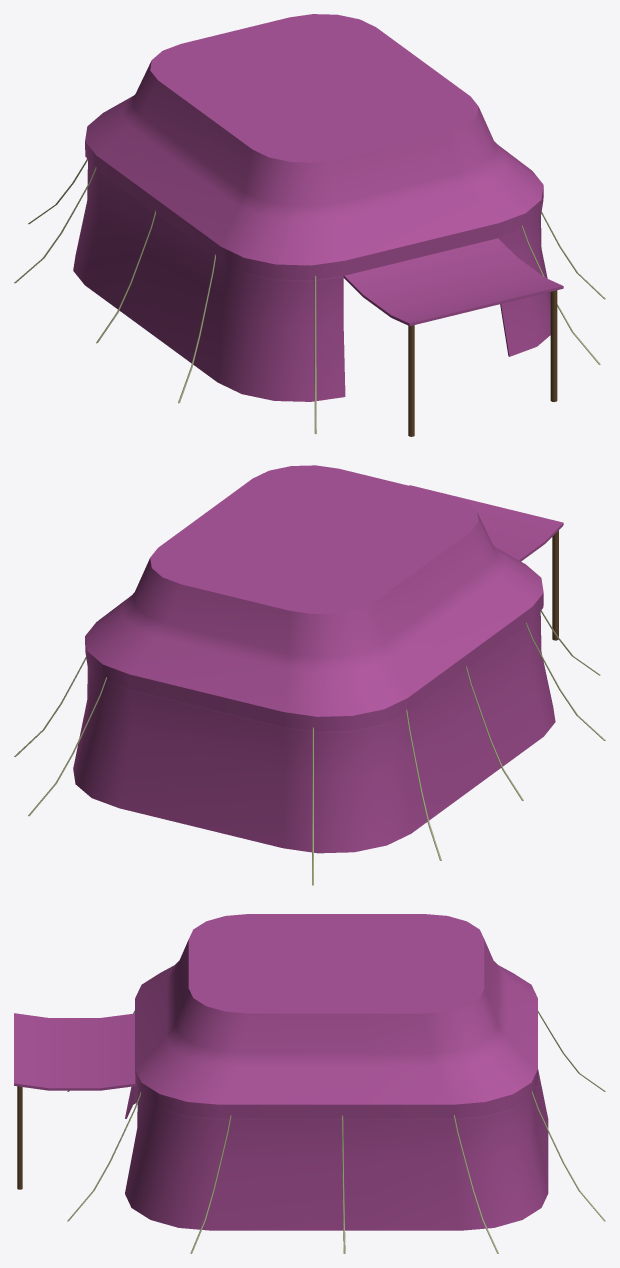
Rendered from Tent_Cpt.fbx.
3 renders of one model, top to bottom at view 1: azimuth 30°, elevation 25°; view 2: azimuth 150°, elevation 25°; view 3: azimuth 270°, elevation 25°, orthographic. The views are drawn at different scales.
Parts seen in each view (by area): view 1: Tent_CPT; view 2: Tent_CPT; view 3: Tent_CPT.
Boxes of the visible parts, x1=… form: Tent_CPT: x1=14, y1=14, x2=605, y2=436; Tent_CPT: x1=14, y1=465, x2=605, y2=885; Tent_CPT: x1=14, y1=914, x2=605, y2=1253.
Size of the model in its own units: 6.94 by 3.19 by 8.88.
